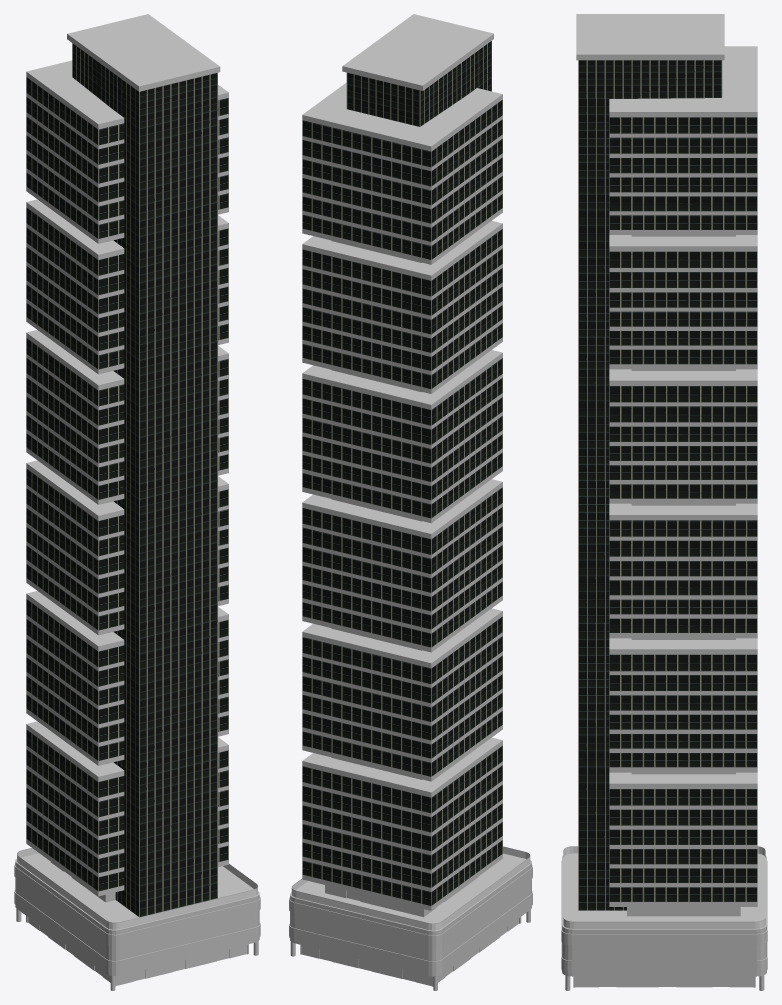
3 views of the same model, side by side, from view 1: azimuth 30°, elevation 25°; view 2: azimuth 150°, elevation 25°; view 3: azimuth 270°, elevation 25° (orthographic). The views are drawn at different scales.
Parts seen in each view (by area): view 1: EC-034; view 2: EC-034; view 3: EC-034.
Boxes of the visible parts, <box> form: EC-034: <box>14,14,260,990</box>; EC-034: <box>289,14,532,990</box>; EC-034: <box>561,14,767,990</box>.
Size of what is drawn, in the model's own units: 29.53 by 164 by 33.42.
